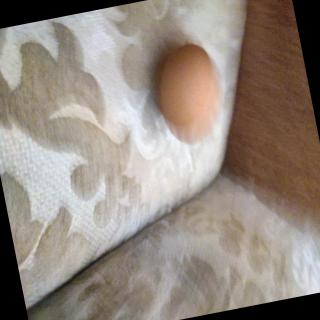Telur: (147, 38, 231, 153)
